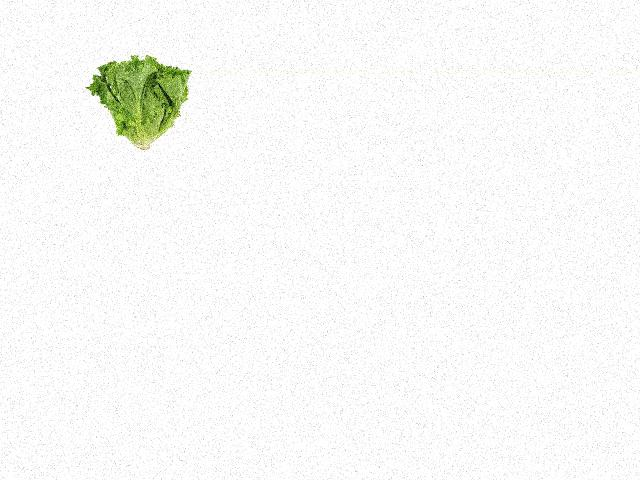lettuce: (90, 50, 192, 152)
